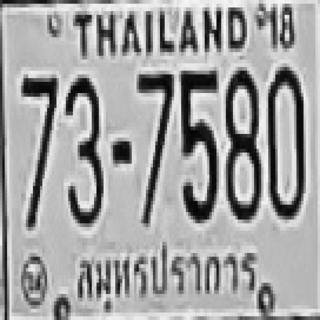N00: (266, 63, 304, 216)
N03: (63, 74, 101, 223)
N05: (179, 67, 217, 220)
N07: (19, 74, 57, 227), (136, 69, 172, 221), (19, 73, 57, 177), (136, 71, 172, 179)
N08: (224, 67, 259, 220)
P57: (72, 238, 266, 314)
